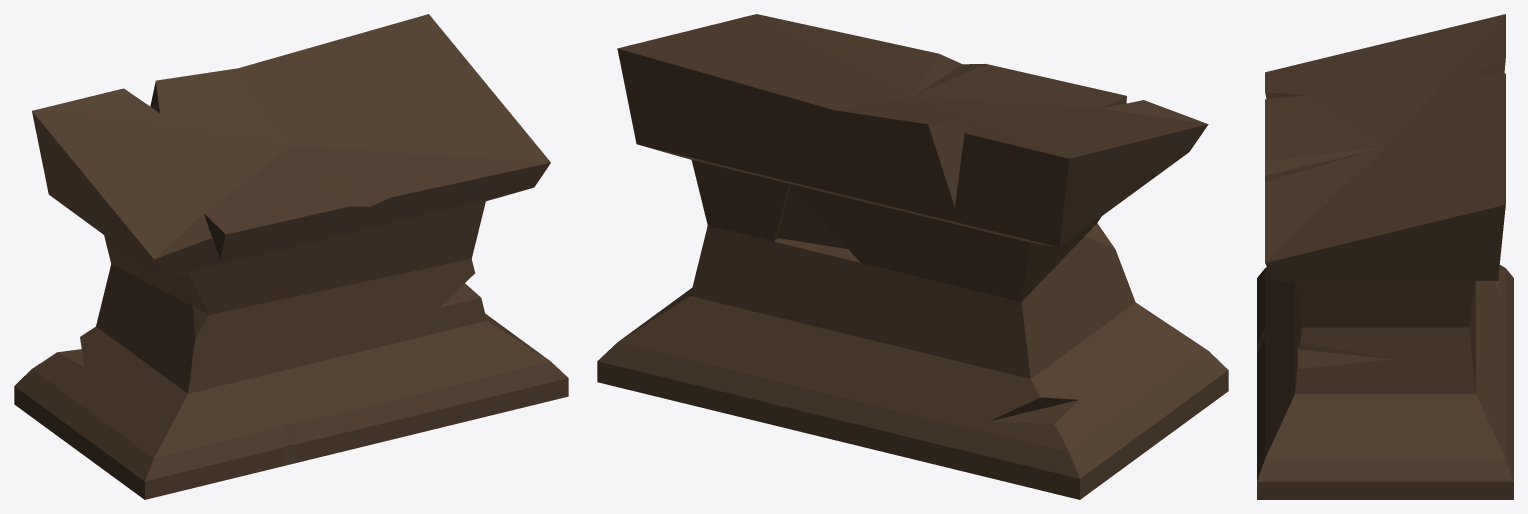
File: Ruin_3_Dark_Brown.fbx
3 views of the same model, side by side, from view 1: azimuth 30°, elevation 25°; view 2: azimuth 150°, elevation 25°; view 3: azimuth 270°, elevation 25° (orthographic). The views are drawn at different scales.
Visible parts, largest first — view 1: Ruin_3_Dark_Brown; view 2: Ruin_3_Dark_Brown; view 3: Ruin_3_Dark_Brown.
Boxes of the visible parts, x1,y1,x2,y2 form: Ruin_3_Dark_Brown: (14,14,568,499); Ruin_3_Dark_Brown: (597,14,1228,499); Ruin_3_Dark_Brown: (1257,14,1513,499).
Size of the model in its own units: 160 by 106 by 85.4.
